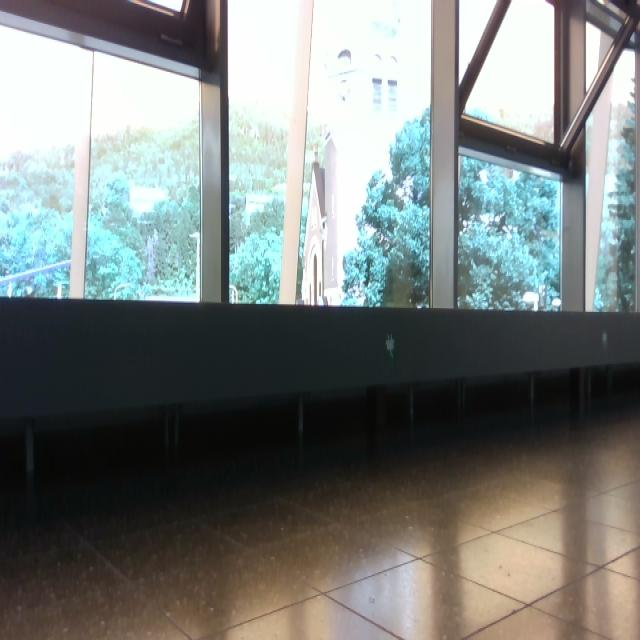light bulb: (337, 49, 352, 102), (371, 53, 384, 109), (387, 54, 399, 112), (506, 169, 520, 182), (386, 334, 395, 352), (479, 169, 489, 184), (552, 297, 562, 310)
pillar: (279, 1, 314, 305), (430, 1, 459, 309)
tiled floor: (2, 399, 639, 639)
window: (1, 12, 202, 302)
